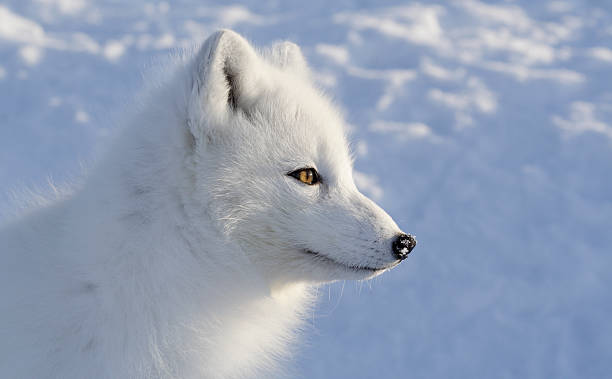arcticfox: (178, 41, 402, 285)
